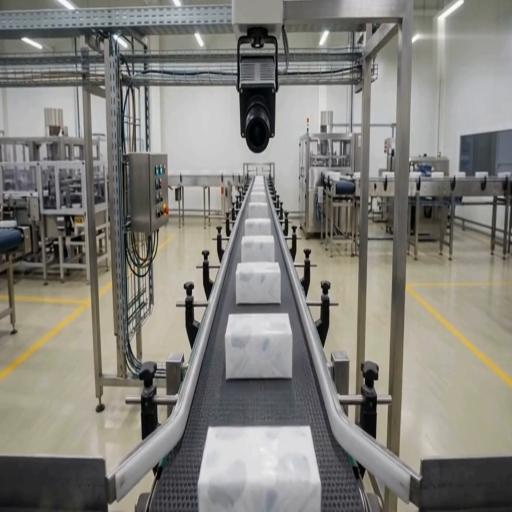good: (198, 427, 321, 511), (225, 314, 292, 379), (236, 263, 280, 304), (242, 236, 274, 262), (245, 219, 271, 236), (249, 202, 269, 218), (251, 192, 266, 202)
